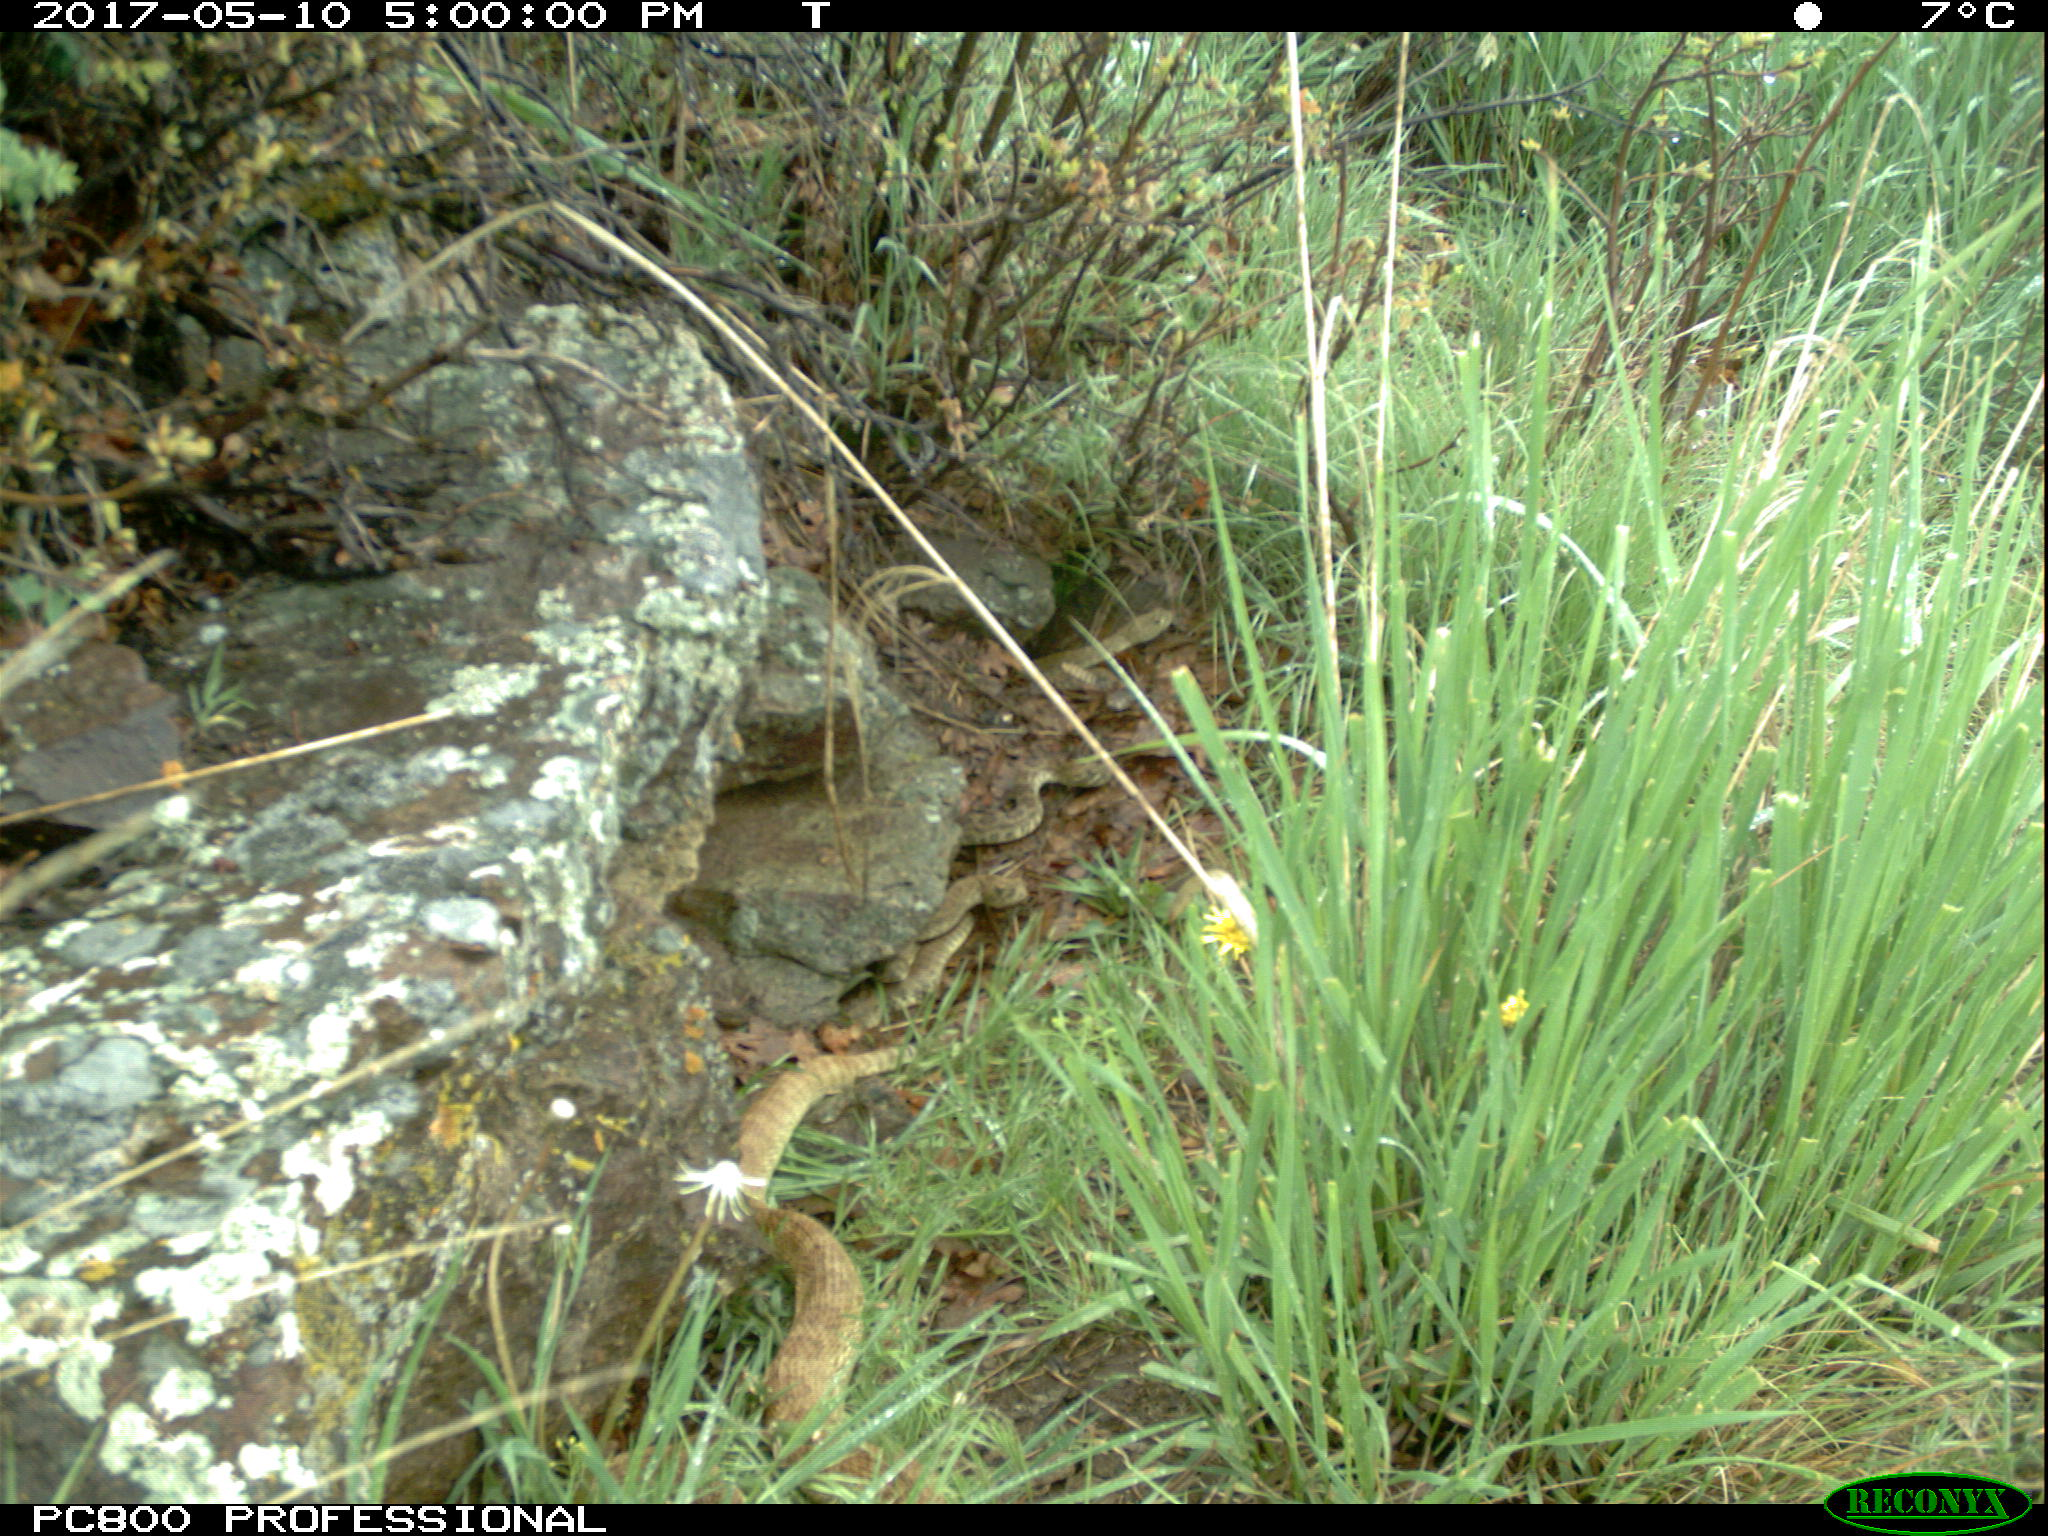snake: (724, 1046, 963, 1502), (950, 745, 1114, 836), (889, 866, 1037, 939), (1022, 607, 1180, 668), (892, 929, 974, 1007)
